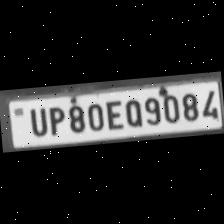0: (158, 91, 182, 125), (84, 101, 105, 132)
4: (197, 86, 220, 121)
8: (178, 89, 200, 124), (64, 102, 86, 134)
9: (140, 94, 162, 125)
E: (103, 98, 125, 132)
P: (44, 104, 66, 136)
Q: (122, 96, 144, 128)
U: (24, 104, 48, 137)
